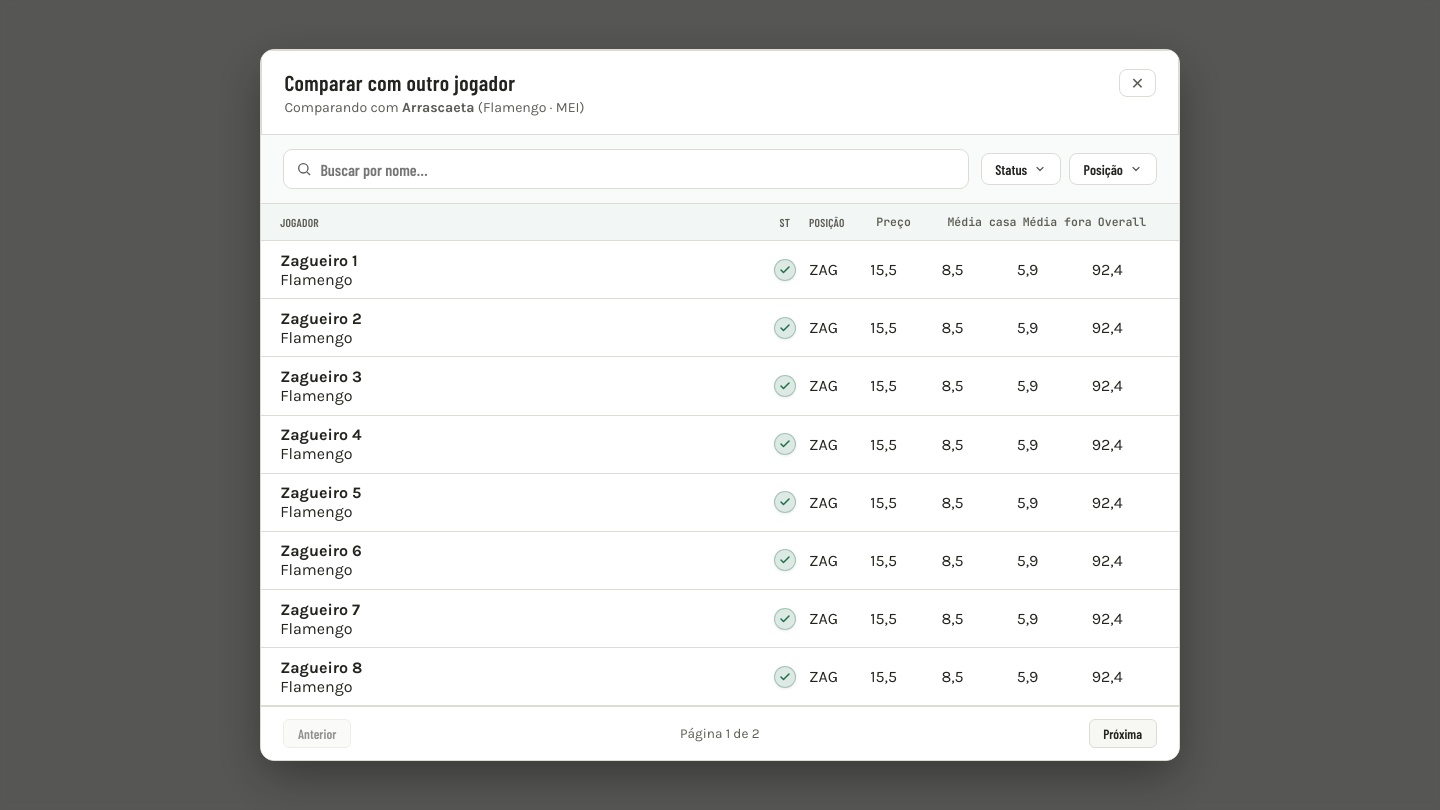
ModalCompararJogador › reseta para a página 1 ao alterar o filtro de posição enquanto estava em outra página
Expected: the text "Zagueiro 1" is shown, x1=280 y1=250 x2=358 y2=270
What coordinates should you click on to do the following:
click the button "Próxima"
I would click on:
 (1123, 734)
Its box is x1=1089 y1=719 x2=1157 y2=748.
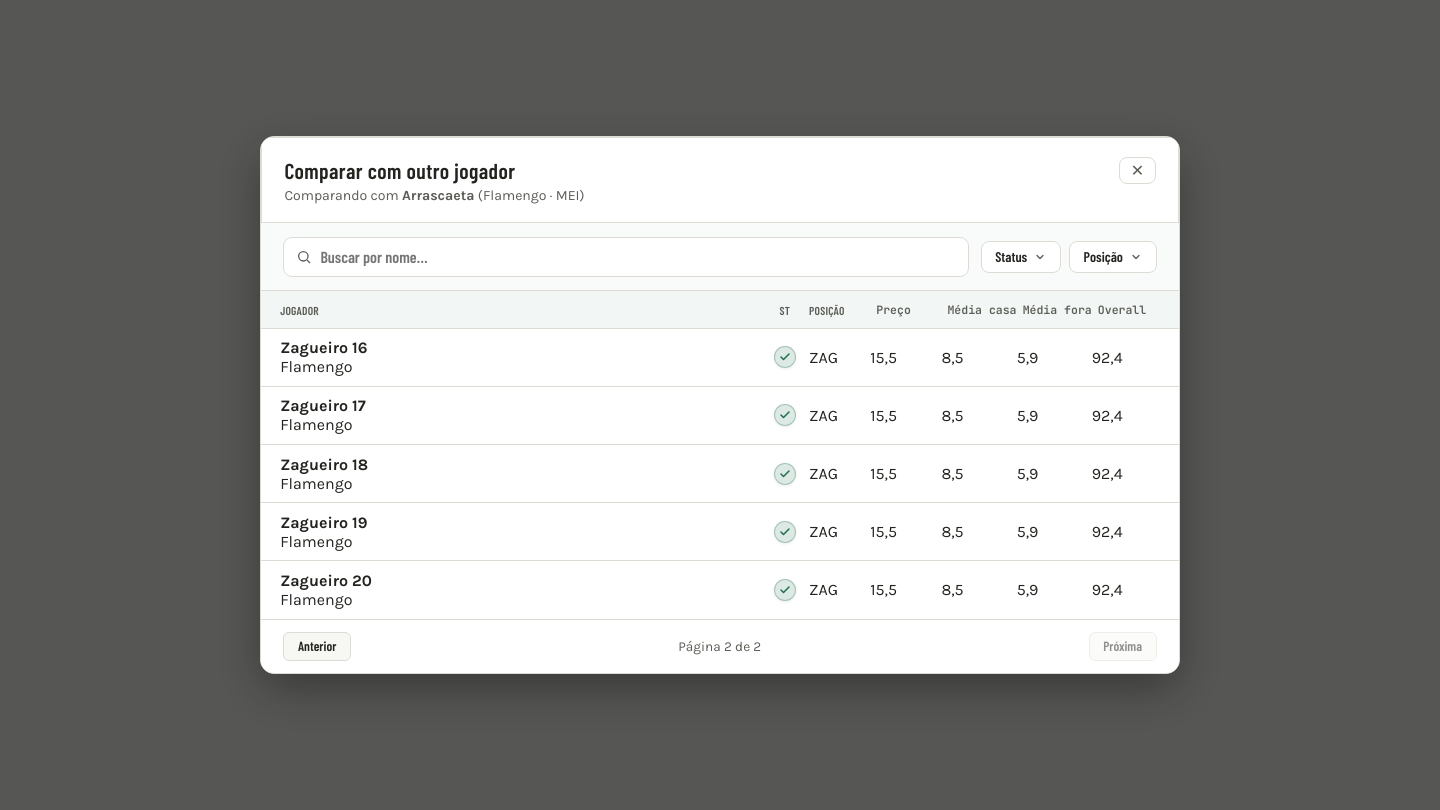
Result: the text "Página 2 de 2" is shown at x1=678 y1=639 x2=761 y2=654
What coordinates should you click on to do the following:
click the button "Posição"
I would click on:
 (1113, 257)
Its box is x1=1069 y1=241 x2=1157 y2=273.
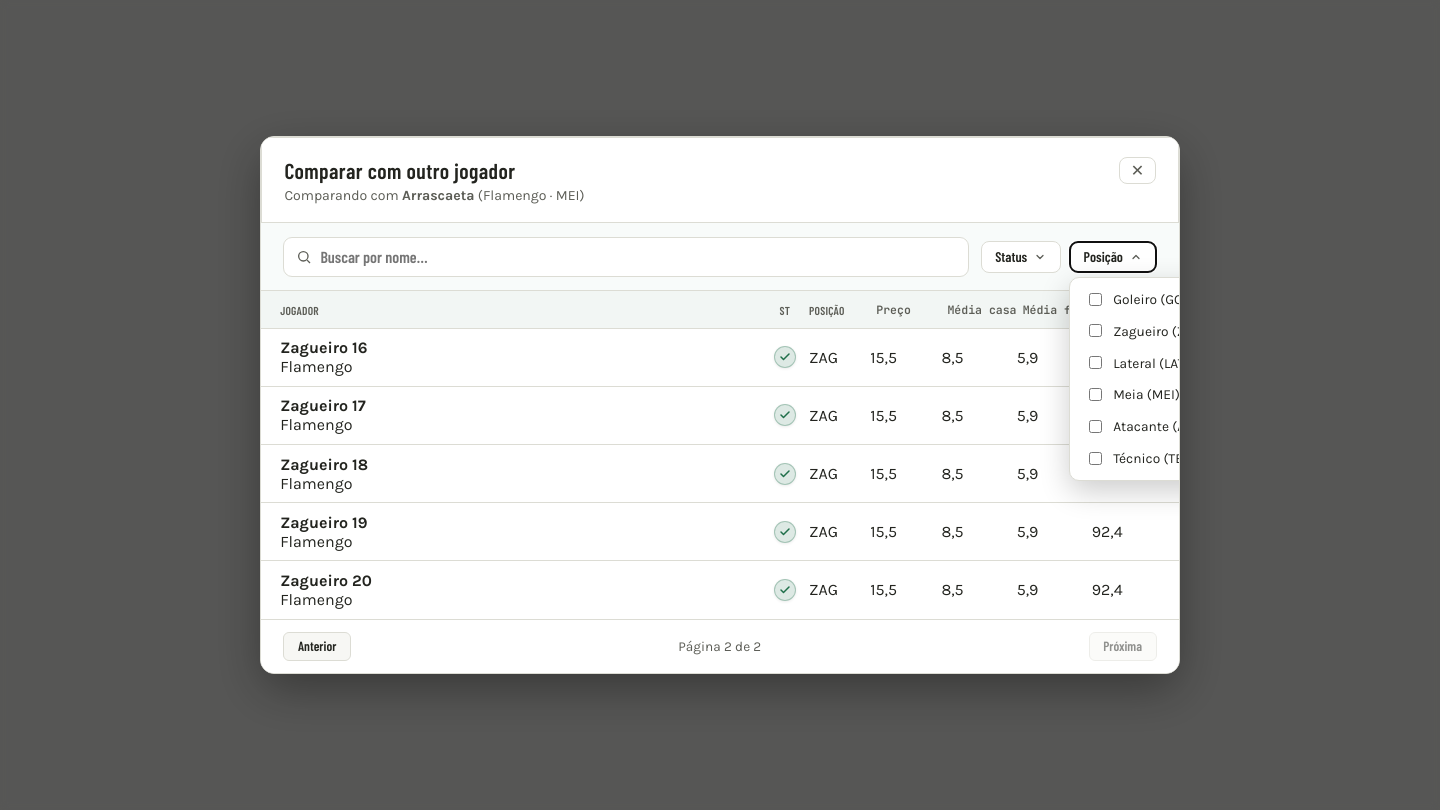
What coordinates should you click on to do the following:
click the option "Zagueiro (ZAG)"
I would click on:
 (1148, 331)
Its box is x1=1089 y1=323 x2=1207 y2=339.
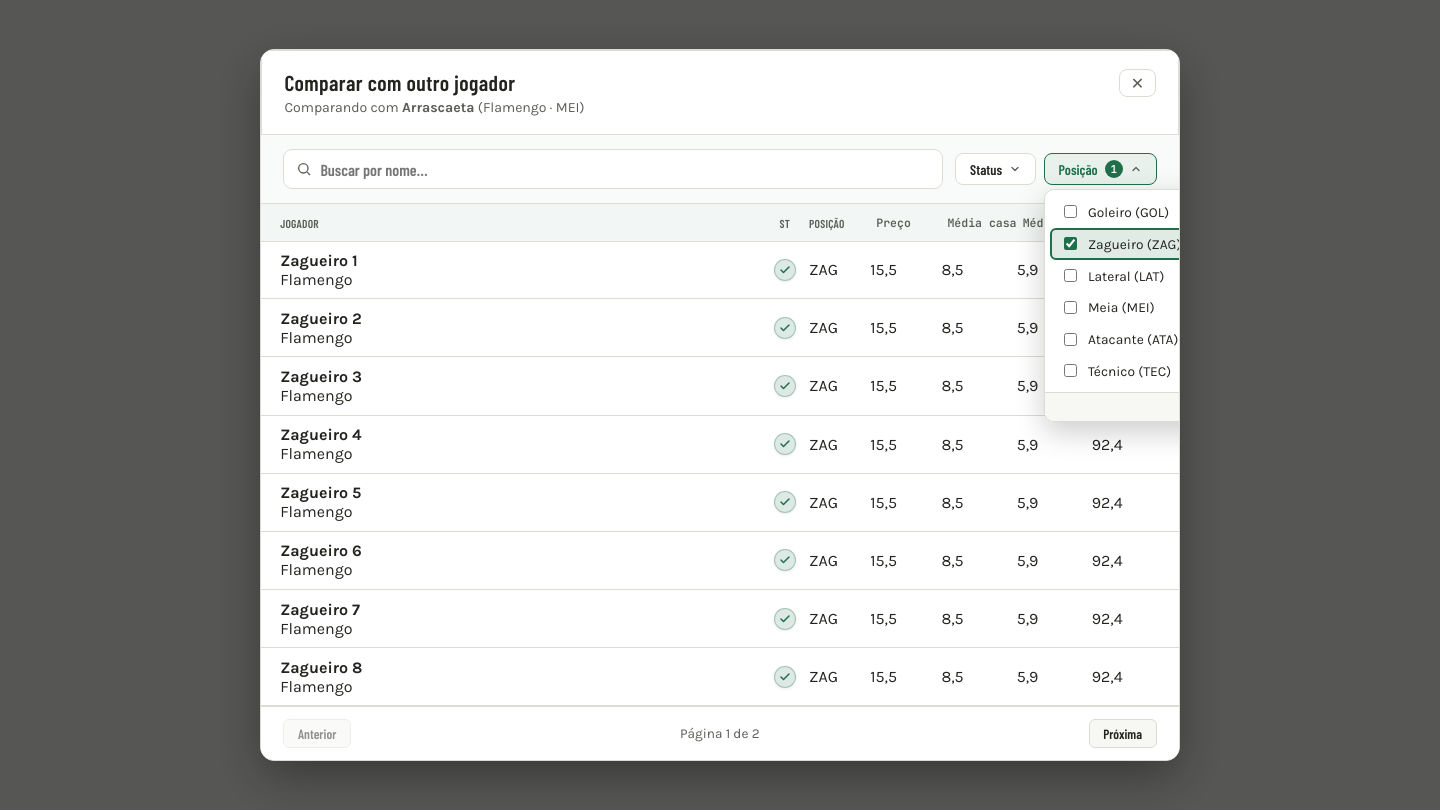
Result: the text "Página 1 de 2" is shown at x1=680 y1=726 x2=760 y2=741
